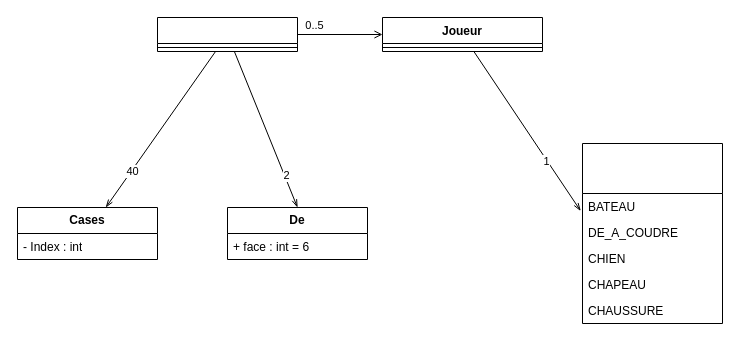
The diagram is 740 pixels wide and 344 high, and some of its shapes have lost their labels. Here are the shapes that lost their labels. From the top down, the box of each, then its label:
(156, 16, 298, 52): Plateau
(582, 142, 722, 324): «enumeration» TypePion
